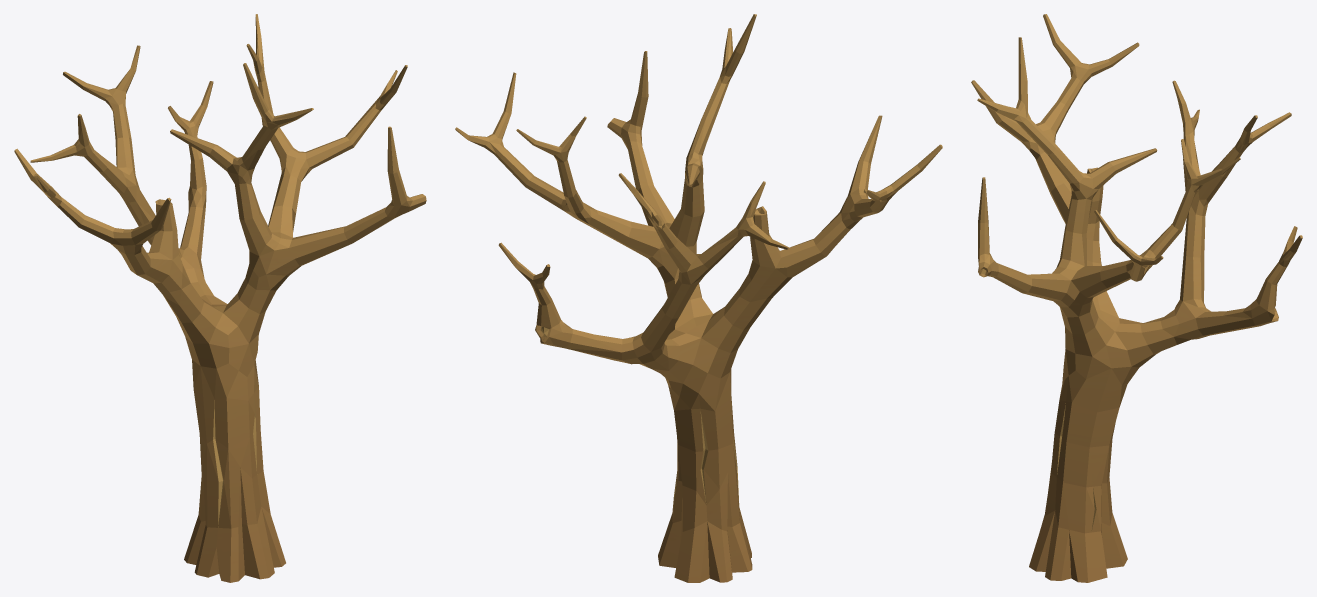
The model's file is Tree_Dead_01.fbx.
3 views of the same model, side by side, from view 1: azimuth 30°, elevation 25°; view 2: azimuth 150°, elevation 25°; view 3: azimuth 270°, elevation 25° (orthographic). The views are drawn at different scales.
Visible parts, largest first — view 1: Tree_Dead_01; view 2: Tree_Dead_01; view 3: Tree_Dead_01.
Boxes of the visible parts, x1,y1,x2,y2 form: Tree_Dead_01: (14, 14, 426, 582); Tree_Dead_01: (455, 14, 942, 582); Tree_Dead_01: (971, 14, 1302, 582).
Size of the model in its own units: 428 by 508 by 296.
